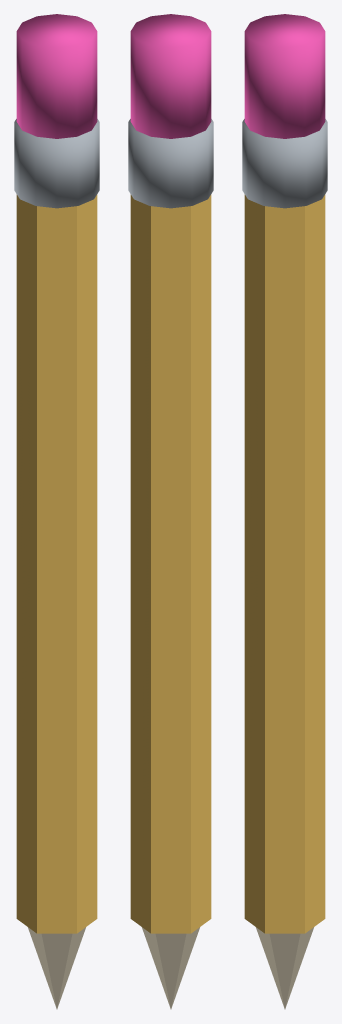
Rendered from pencil.glb.
3 views of the same model, side by side, from view 1: azimuth 90°, elevation 25°; view 2: azimuth 150°, elevation 25°; view 3: azimuth 270°, elevation 25° (orthographic).
Parts seen in each view (by area): view 1: pencil; view 2: pencil; view 3: pencil.
Part boxes in pixels (x1=…): pencil: x1=14, y1=14, x2=99, y2=1009; pencil: x1=128, y1=14, x2=213, y2=1009; pencil: x1=242, y1=14, x2=327, y2=1009.
Bounding box in the file's own units: 0.017 × 0.215 × 0.017.
